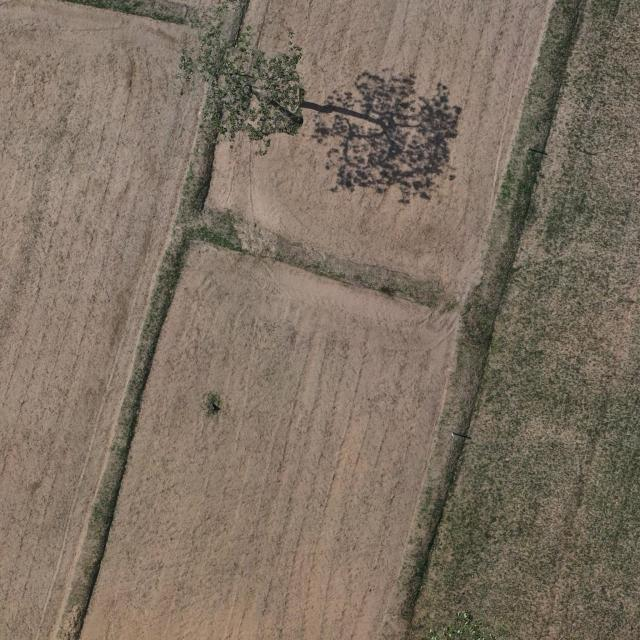tree: (175, 21, 308, 160)
